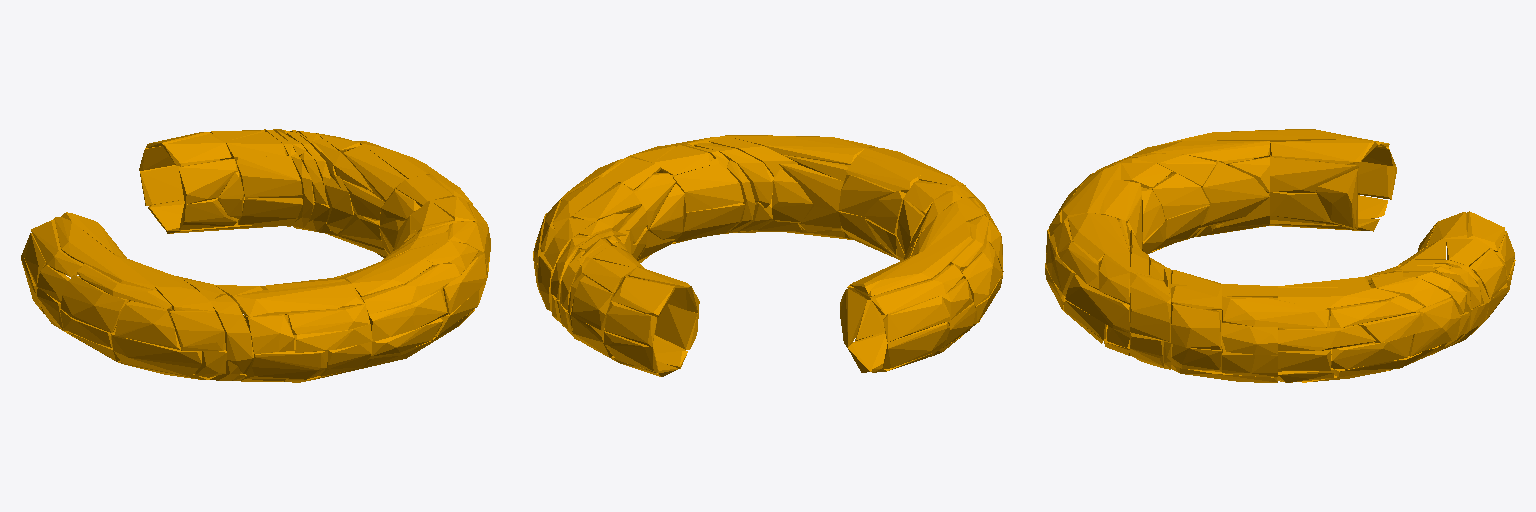
URDF robot description (donut):
<?xml version="1.0"?>
<robot name="donut">

  <link name="base_link">
    <visual>
      <geometry>
        <mesh filename="package://physical-experiment/downsampled4blender/donut-60-vhacd.obj" scale="10 10 10"/>
      </geometry>
    </visual>
    <collision>
      <geometry>
        <mesh filename="package://physical-experiment/downsampled4blender/donut-60-vhacd.obj" scale="10 10 10"/>
      </geometry>
    </collision>
  </link>

</robot>

--- Facts derived from the render (not from the file) ---
Views: 3 orthographic renders of the robot side by side, from view 1: azimuth 30°, elevation 25°; view 2: azimuth 150°, elevation 25°; view 3: azimuth 270°, elevation 25°.
Robot: donut — 1 links, 0 joints (none); root link base_link; default pose: all joints at 0.
Visible links, largest first — view 1: base_link; view 2: base_link; view 3: base_link.
Boxes of the visible links, left/top/right/bottom form: base_link: left=21, top=129, right=490, bottom=382; base_link: left=533, top=135, right=1003, bottom=376; base_link: left=1045, top=129, right=1515, bottom=382.
Bounding box of the posed robot: 1.05 × 1.05 × 0.2172 m (x, y, z).
1 mesh visuals loaded from 1 distinct referenced files (1 OBJ).